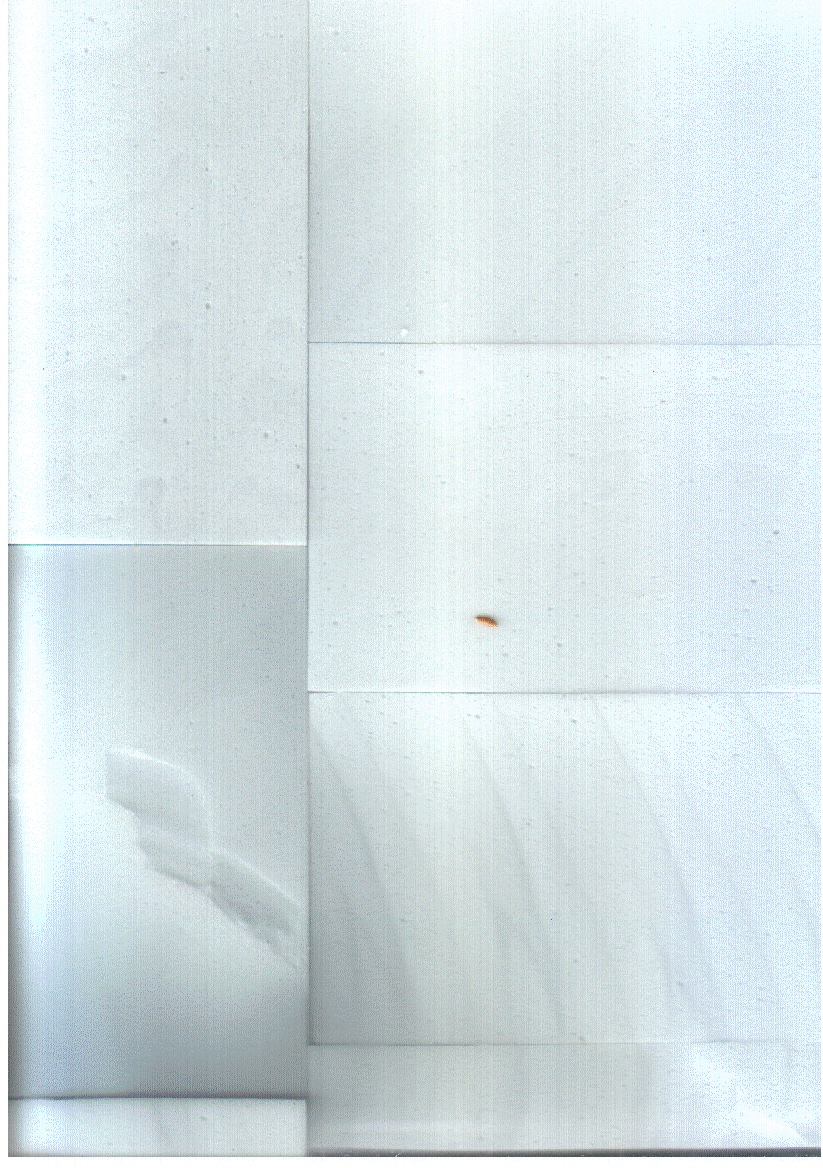grains: (466, 598, 509, 644)
